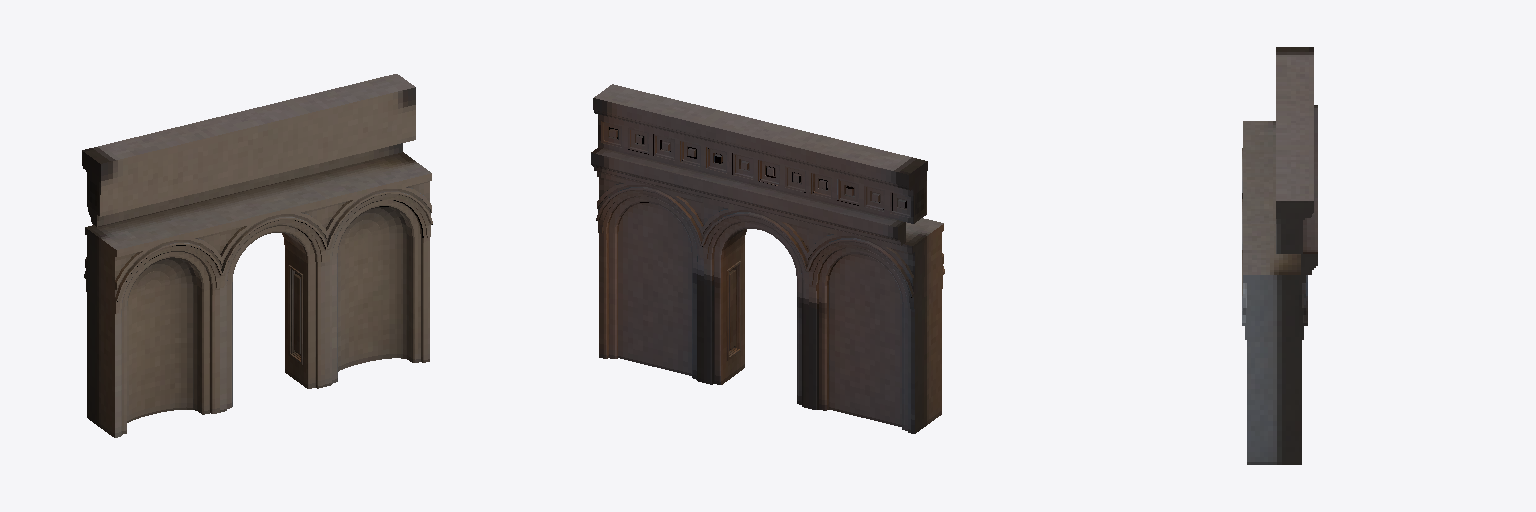
3 views of the same model, side by side, from view 1: azimuth 30°, elevation 25°; view 2: azimuth 150°, elevation 25°; view 3: azimuth 270°, elevation 25° (orthographic).
Parts seen in each view (by area): view 1: Wall_Doorway_HR001; view 2: Wall_Doorway_HR001; view 3: Wall_Doorway_HR001.
Part boxes in pixels (x1,y1,x2,y2): Wall_Doorway_HR001: (82,74,432,437); Wall_Doorway_HR001: (591,84,944,433); Wall_Doorway_HR001: (1242,47,1317,464).
Bounding box in the file's own units: 7.8 × 6.23 × 1.64.
Materials: 1 (1 with a texture image).